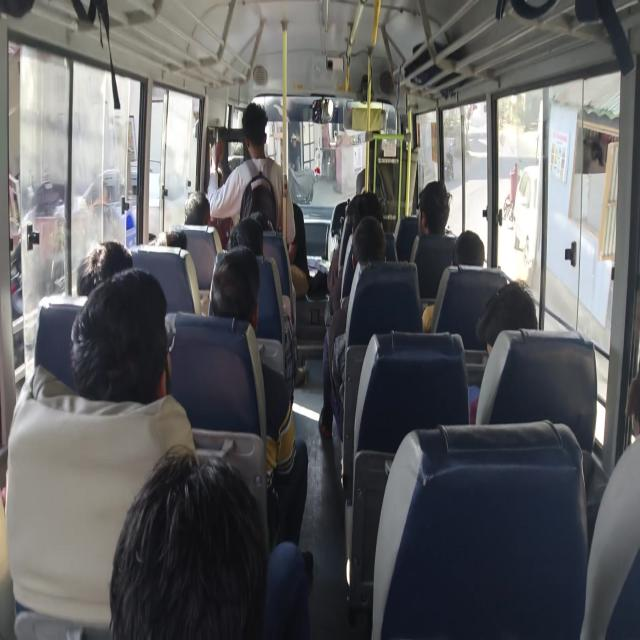person: (122, 448, 308, 640), (87, 273, 153, 349), (214, 246, 260, 341), (352, 216, 400, 289), (621, 346, 640, 524), (79, 237, 126, 302), (484, 289, 520, 362), (278, 202, 309, 284), (451, 230, 490, 292), (416, 188, 454, 241), (231, 222, 273, 262), (184, 188, 215, 230), (241, 110, 268, 156), (250, 203, 270, 242), (348, 192, 373, 214), (167, 226, 183, 259)
